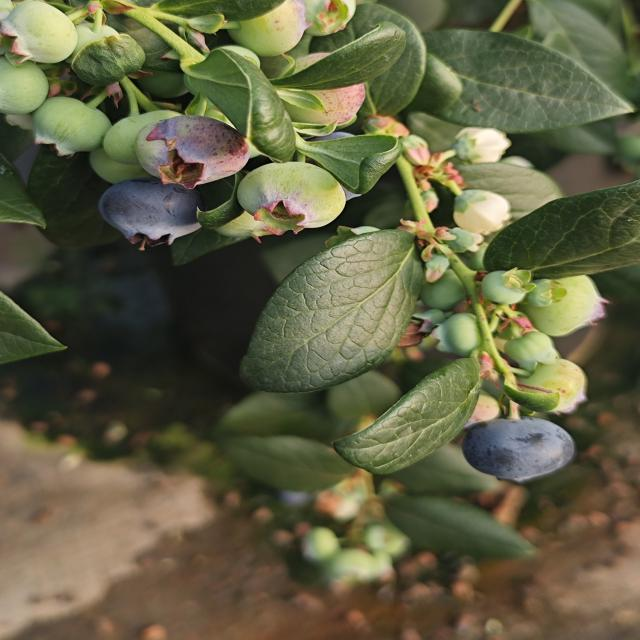ripe: (86, 180, 219, 247), (460, 411, 588, 480), (306, 128, 382, 198)
